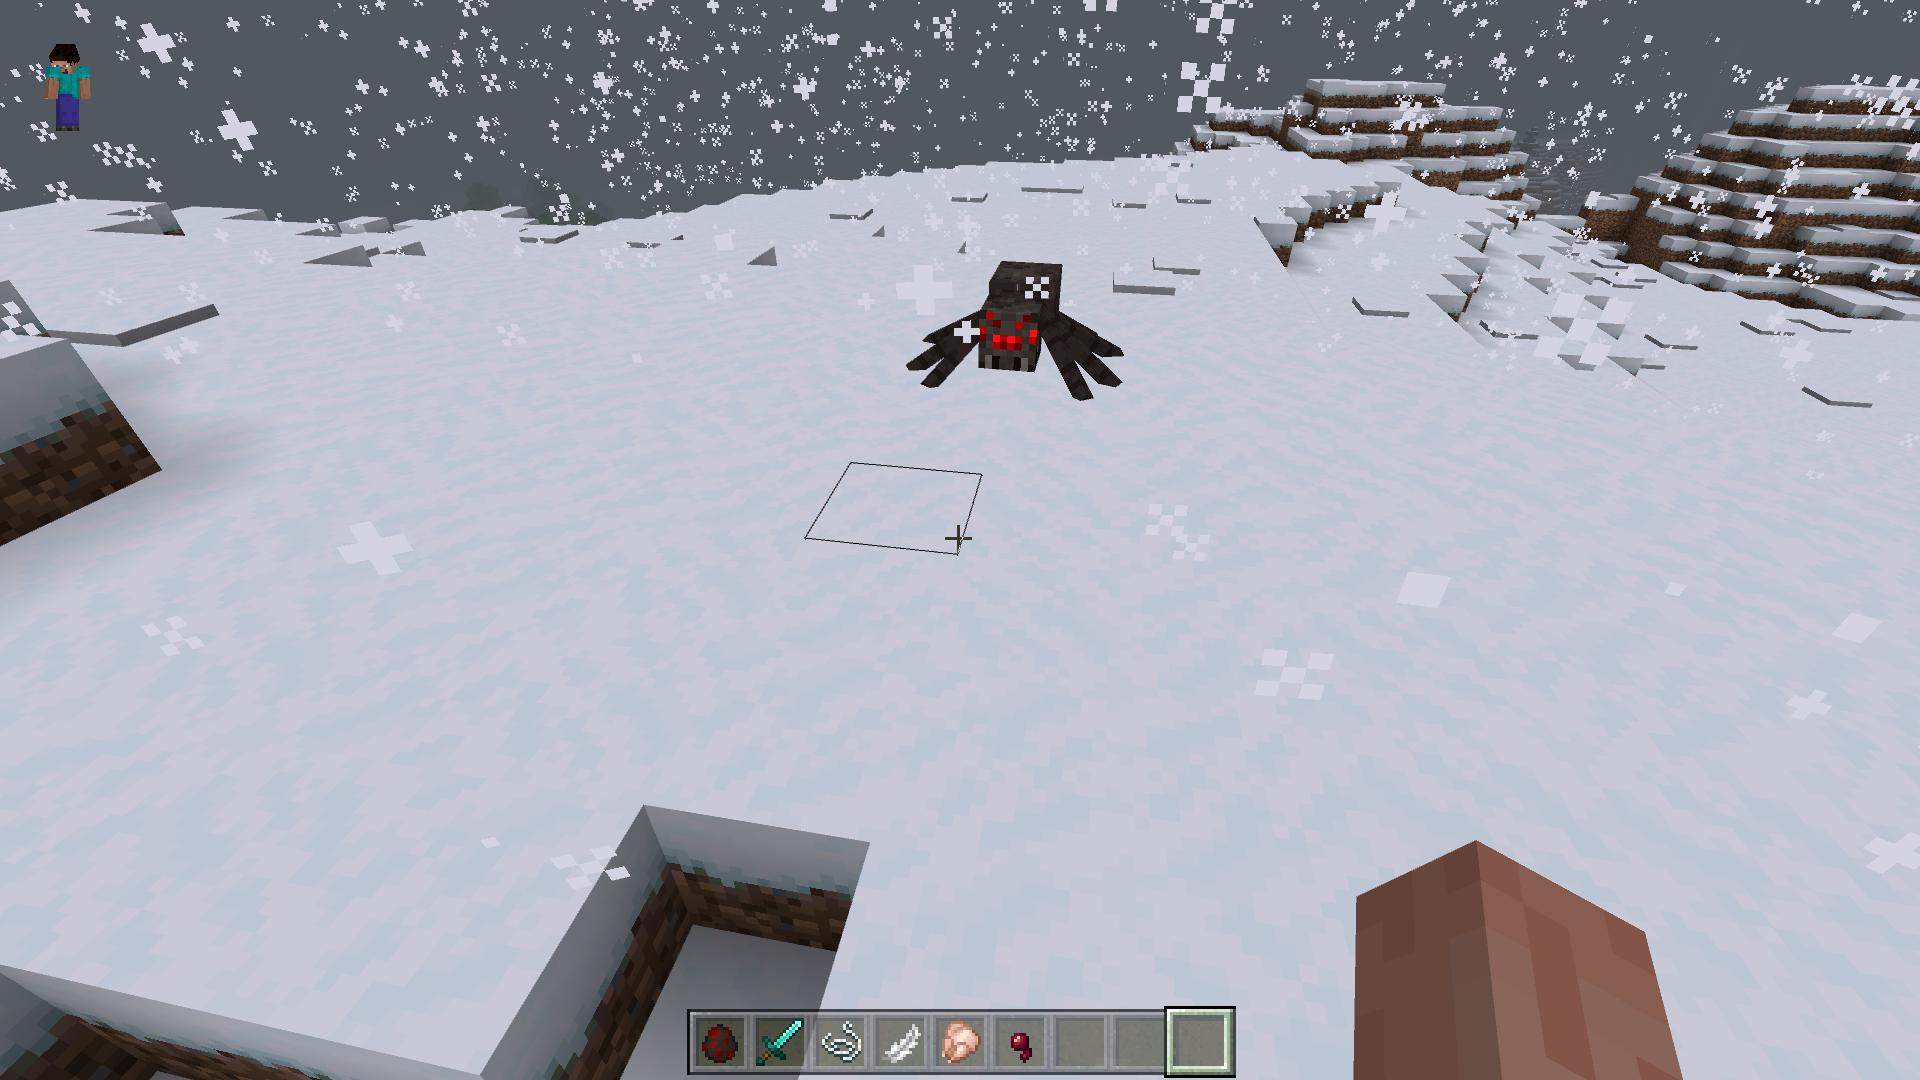spider: (910, 256, 1125, 415)
